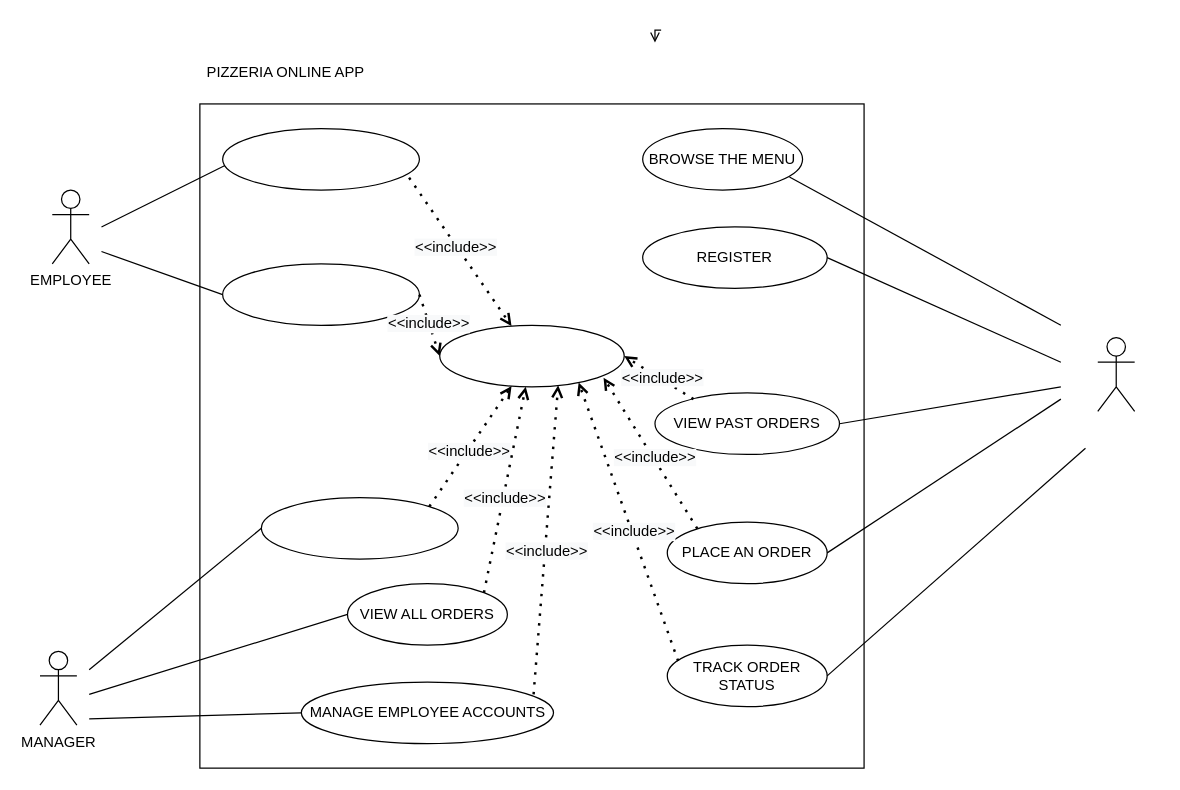
Some shapes in this 1180 by 790 pixel diagram are drawn without their labels. The shapes that lost their labels are listed below. From the top down, each one's centre as x and y in pixels, then its label:
At point (320, 158): "VIEW INCOMING ORDERS".
At point (320, 294): "UPDATE ORDER STATUS".
At point (531, 355): "LOG IN".
At point (1116, 373): "CUSTOMER".
At point (359, 527): "UPDATE MENU".
